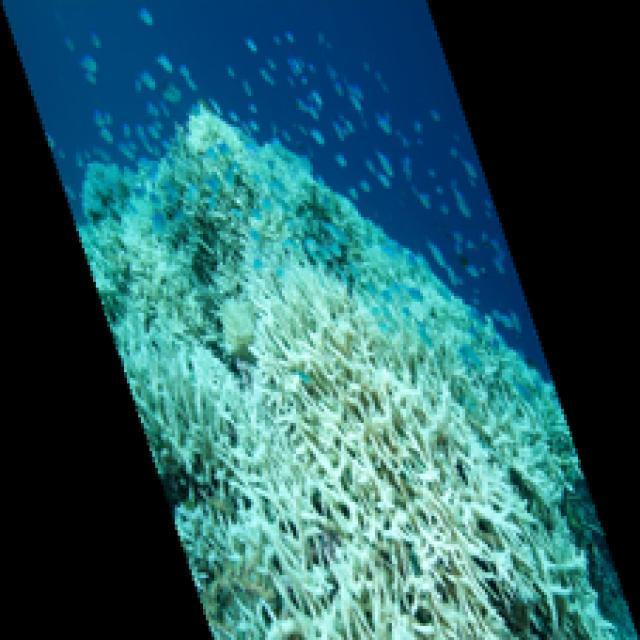Bleached: (75, 102, 626, 640), (249, 274, 525, 640)
